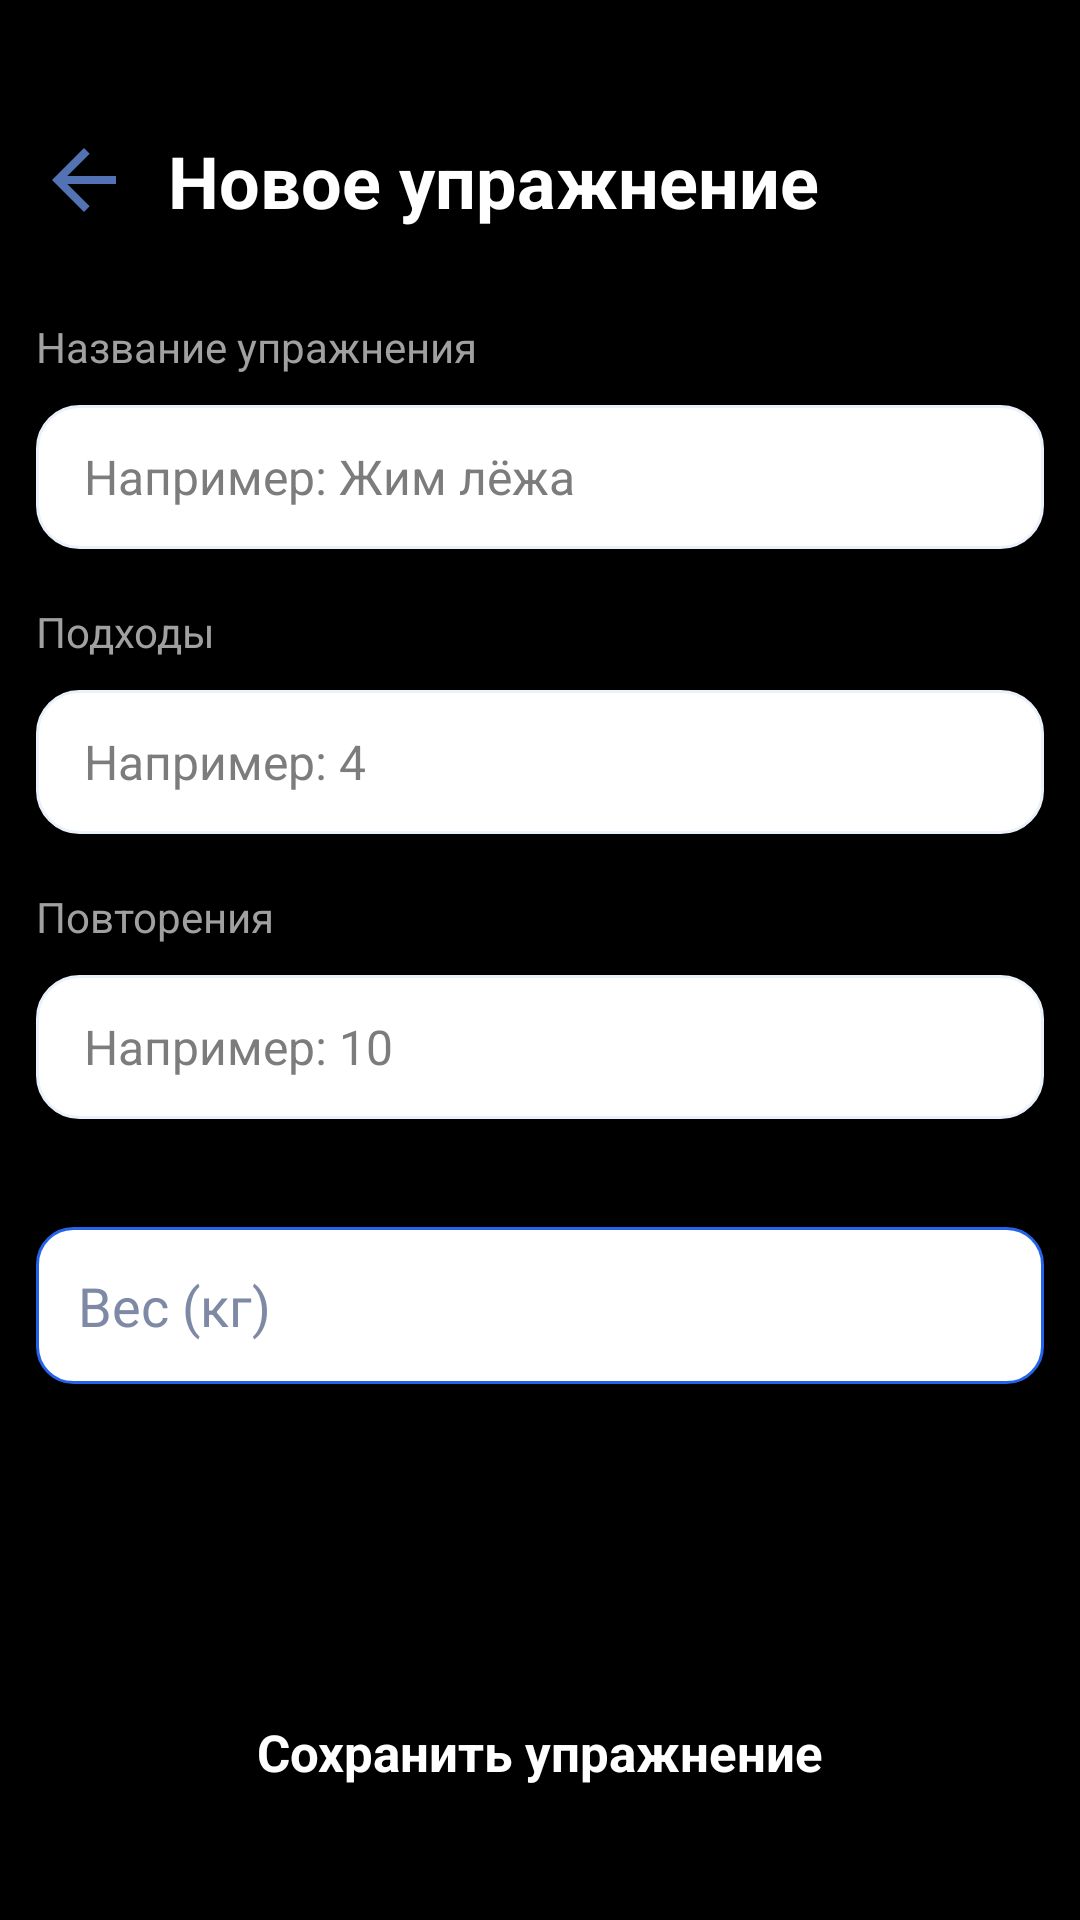

Point at icon controls on the screen. Image size 1080×1920, points as point (x, y).
arrow back: point (84, 180)
